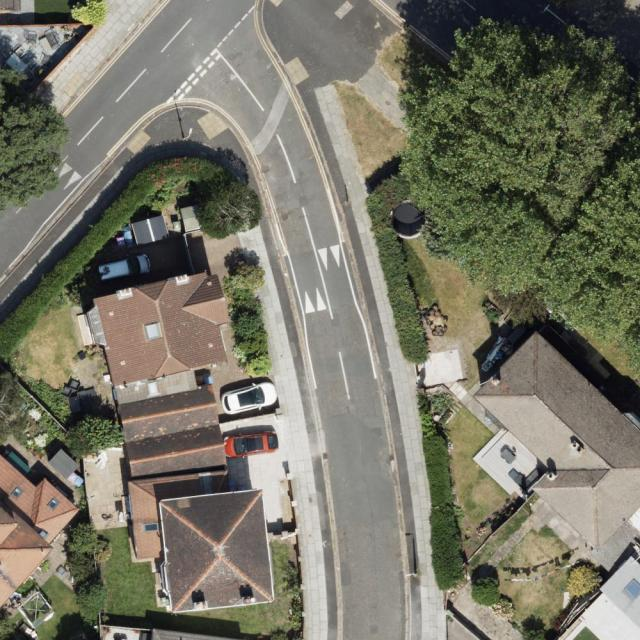roof: (94, 267, 276, 614), (475, 328, 640, 549), (0, 453, 87, 608), (562, 556, 640, 640)
skylight: (141, 320, 162, 347), (625, 579, 640, 601), (142, 519, 158, 534), (10, 486, 24, 499), (39, 528, 49, 542), (48, 498, 58, 511)
